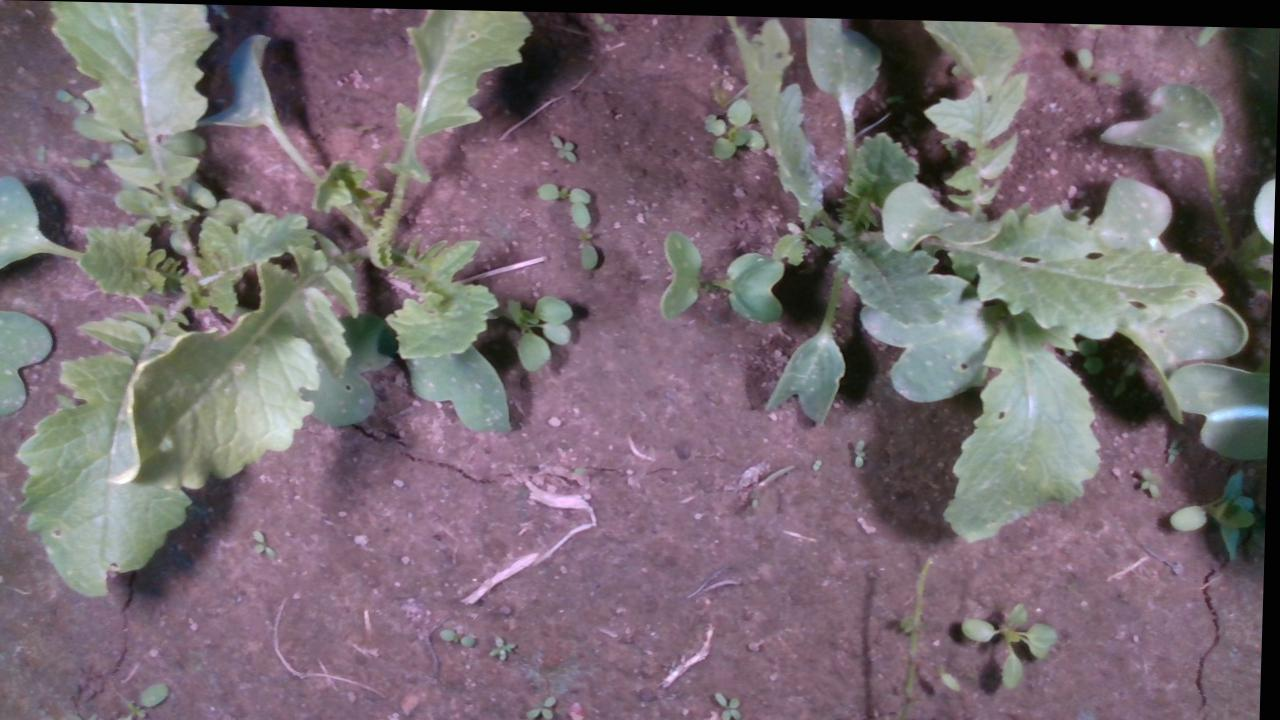weed: (547, 130, 580, 161), (527, 690, 561, 718), (716, 687, 746, 717), (491, 630, 523, 657), (252, 527, 279, 558), (441, 624, 480, 645), (1141, 459, 1164, 493)
